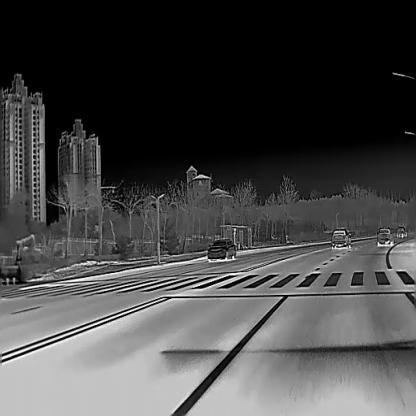car: (207, 238, 236, 260), (330, 228, 351, 250), (376, 227, 394, 245), (395, 226, 407, 237)
